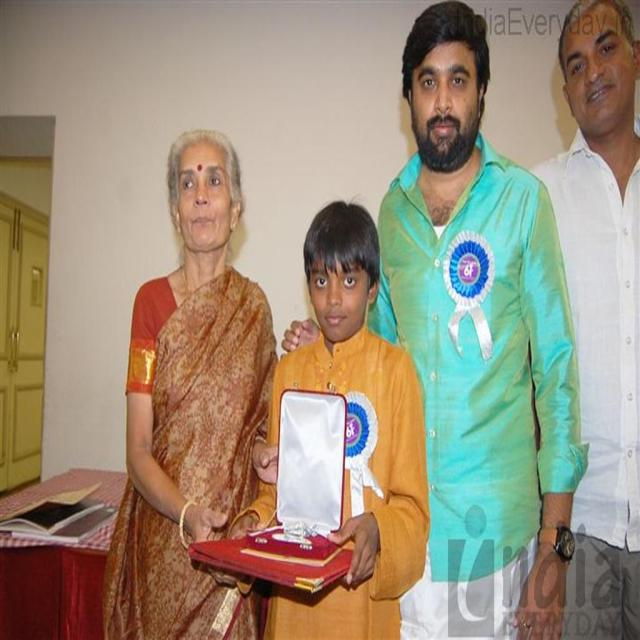Face: (406, 28, 487, 176), (556, 1, 637, 134), (161, 142, 248, 255), (307, 232, 368, 328)
